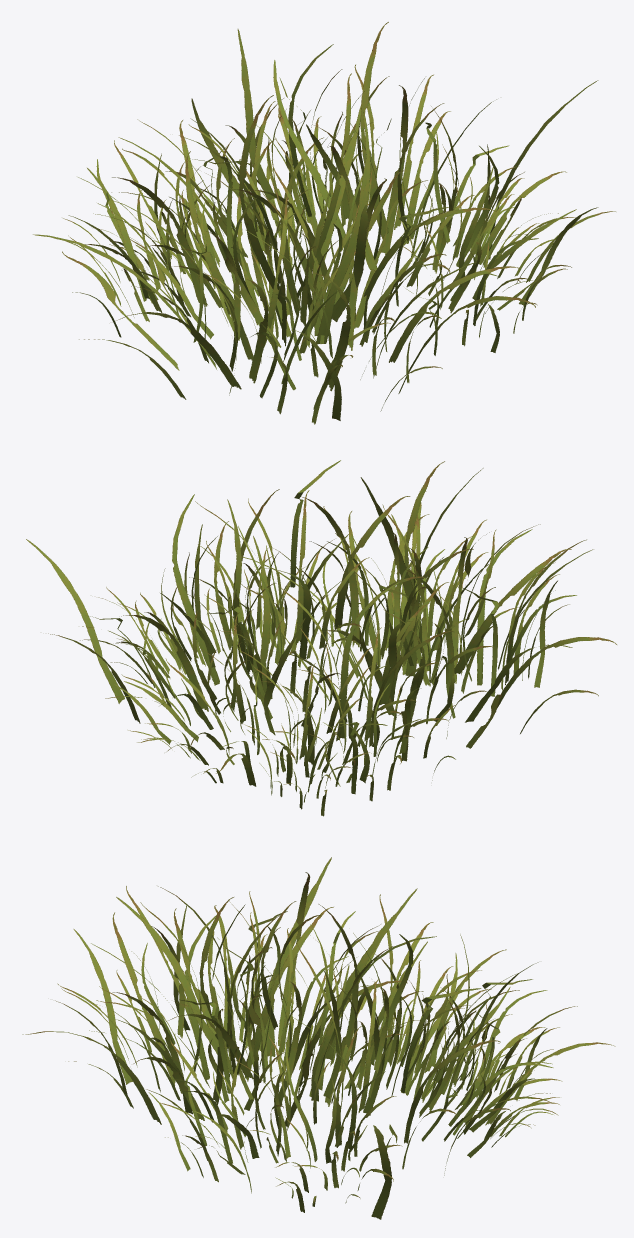
File: Gras_small_dry_015.fbx
3 renders of one model, top to bottom at view 1: azimuth 30°, elevation 25°; view 2: azimuth 150°, elevation 25°; view 3: azimuth 270°, elevation 25°, orthographic. The views are drawn at different scales.
Visible parts, largest first — view 1: Gras_small_dry.015; view 2: Gras_small_dry.015; view 3: Gras_small_dry.015.
Boxes of the visible parts, x1=… form: Gras_small_dry.015: x1=33, y1=22, x2=615, y2=424; Gras_small_dry.015: x1=26, y1=460, x2=616, y2=816; Gras_small_dry.015: x1=22, y1=857, x2=615, y2=1219.
Bounding box in the file's own units: 54.18 × 22.56 × 50.5.
Materials: 1 (1 with a texture image).
